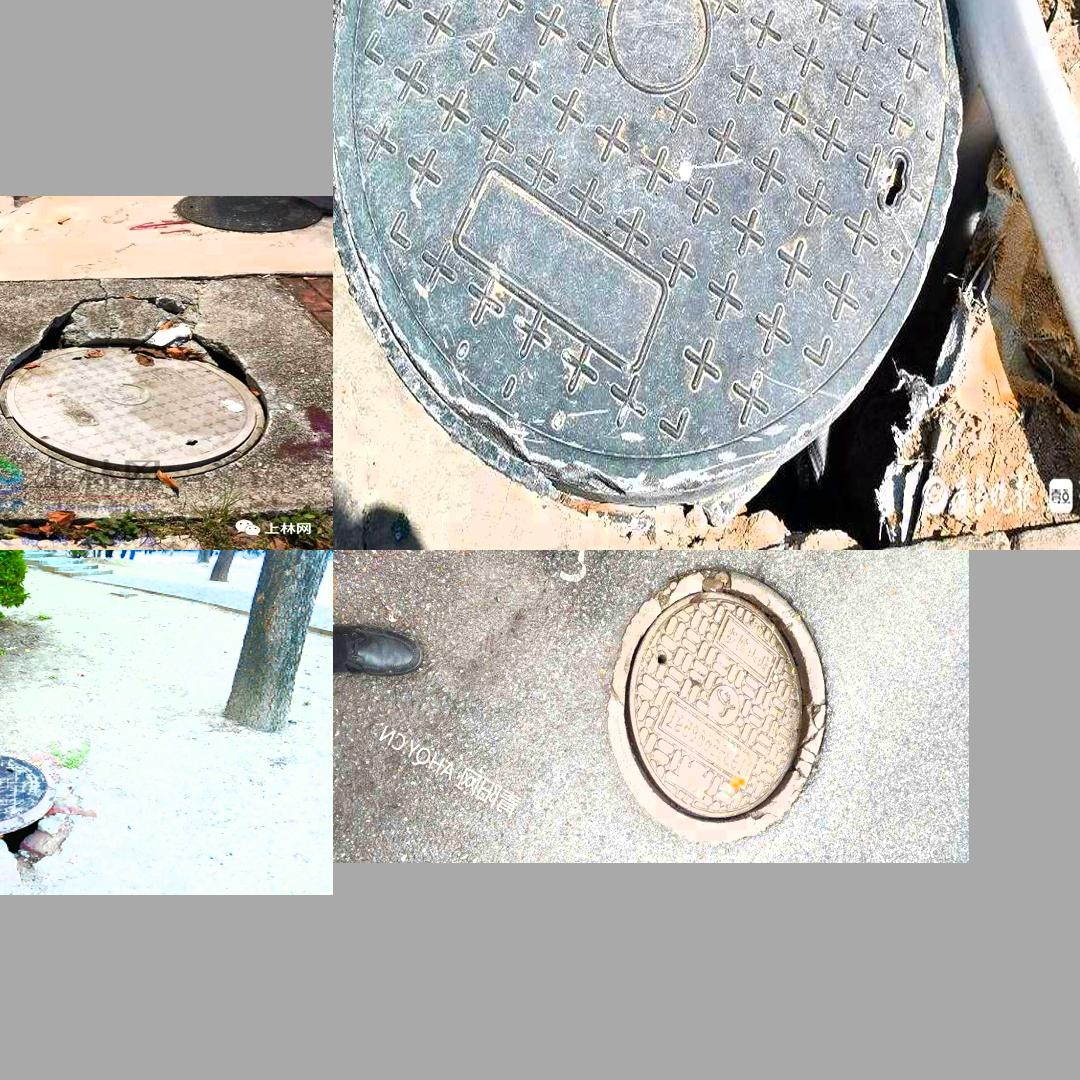circle: (347, 0, 1080, 523), (0, 266, 330, 522), (589, 562, 865, 850), (0, 749, 111, 878)
